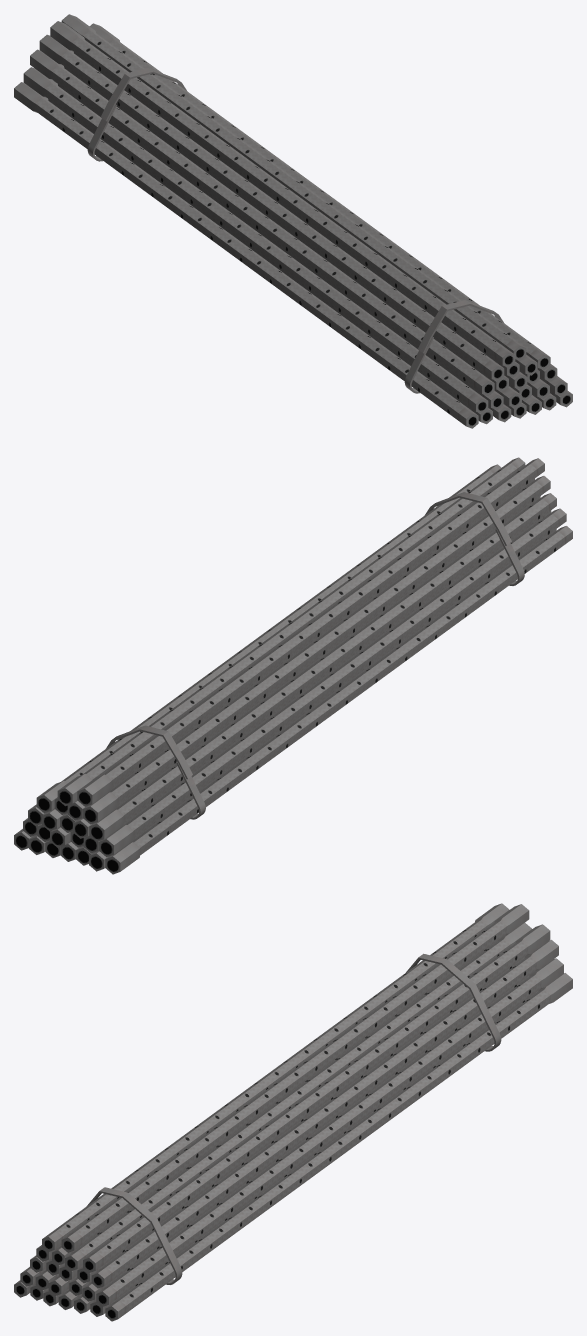
Rendered from HJ_MKTC_003.FBX.
The picture shows the model from 3 angles, top to bottom: view 1: azimuth 30°, elevation 25°; view 2: azimuth 150°, elevation 25°; view 3: azimuth 330°, elevation 25°; orthographic projection.
Visible parts, largest first — view 1: PJ_DW_01_1_009; view 2: PJ_DW_01_1_009; view 3: PJ_DW_01_1_009.
Part boxes in pixels (left/top/right/bottom): PJ_DW_01_1_009: left=14, top=14, right=572, bottom=428; PJ_DW_01_1_009: left=14, top=457, right=572, bottom=874; PJ_DW_01_1_009: left=14, top=903, right=572, bottom=1321.
Bounding box in the file's own units: 0.1794 × 0.1157 × 1.24.
1 material, 1 textured.
